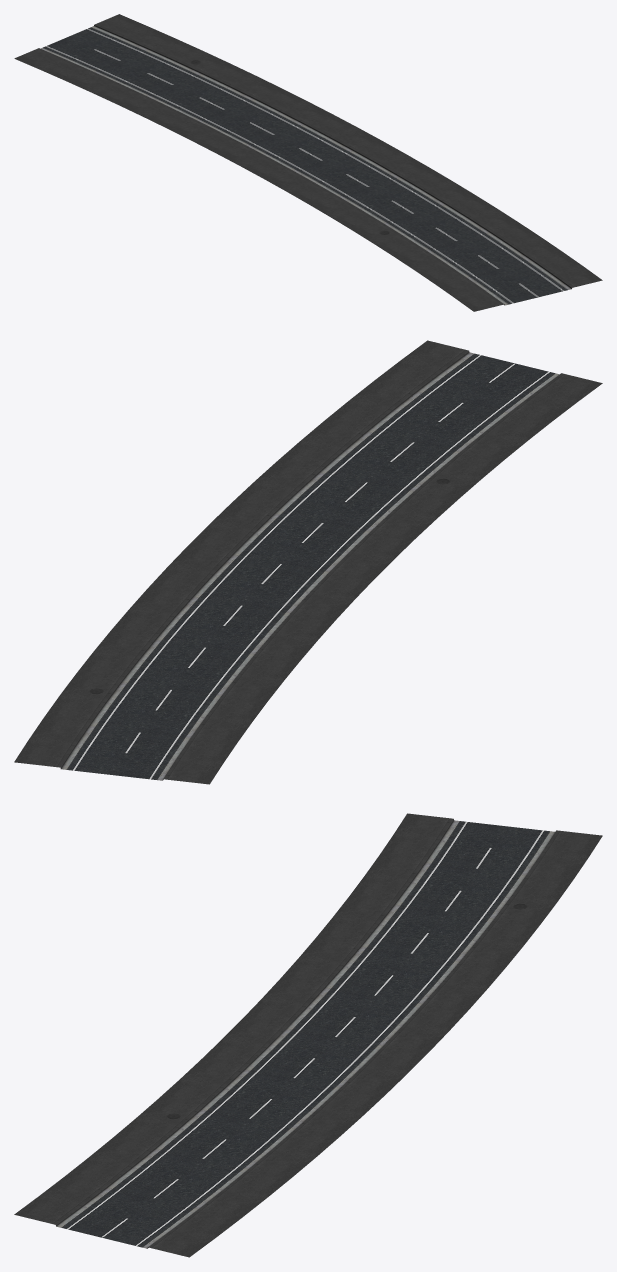
Rendered from city_road_15left.fbx.
3 views of the same model, one above another, from view 1: azimuth 30°, elevation 25°; view 2: azimuth 150°, elevation 25°; view 3: azimuth 330°, elevation 25° (orthographic). The views are drawn at different scales.
Parts seen in each view (by area): view 1: obj0; view 2: obj0; view 3: obj0.
Part boxes in pixels (x1,y1,x2,y2): obj0: [14, 14, 602, 311]; obj0: [14, 340, 602, 784]; obj0: [14, 813, 602, 1257].
Size of the model in its own units: 48.55 by 0.254 by 154.
